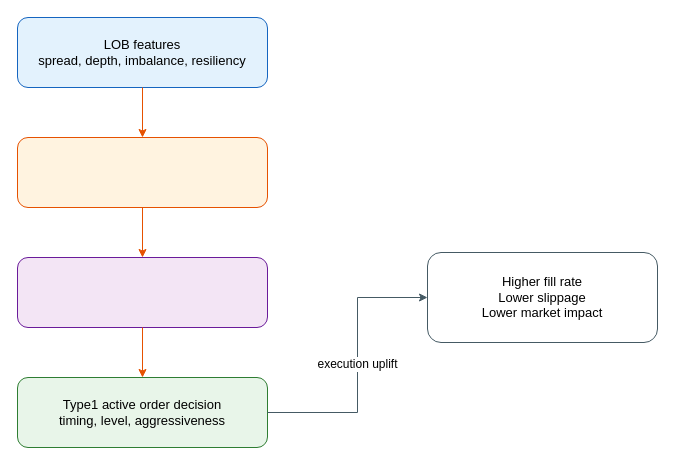
The diagram is 675 pixels wide and 465 high, and some of its shapes have lost their labels. The shapes that lost their labels are listed below. From the top down, each one's centre as x and y in pixels, then its label:
At [142,172]: "15-130 min market-direction signal".
At [142,292]: "Real-time fill probability Algo state and queue position".
